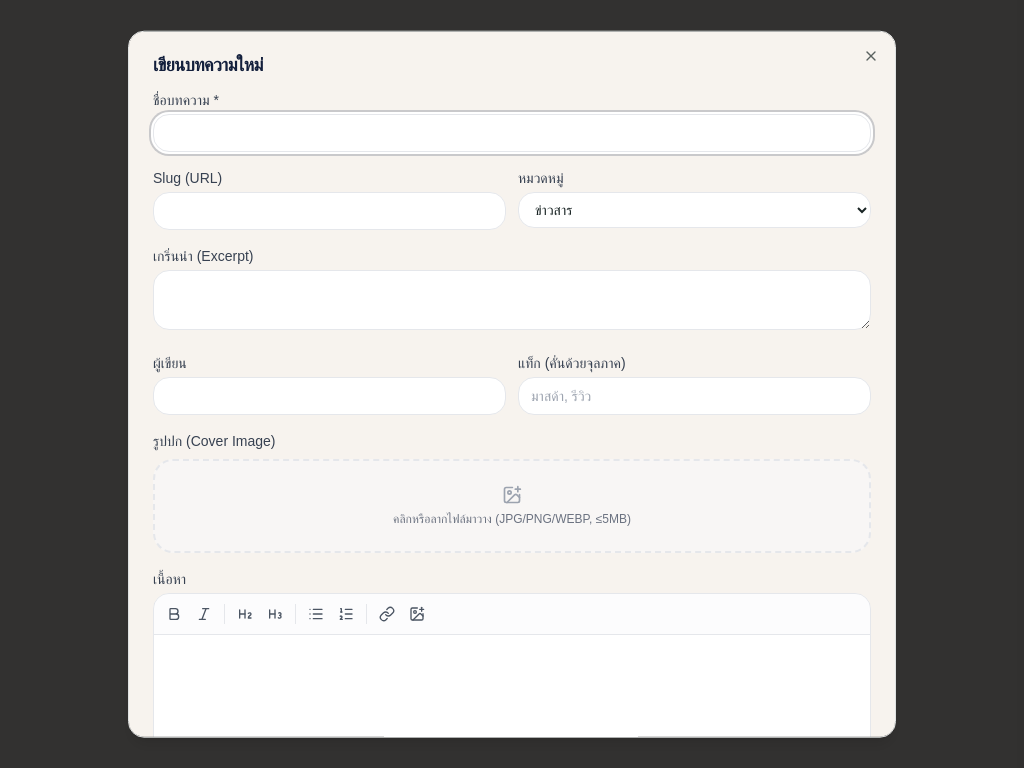
Test: BlogForm › auto-generates the slug from the title until the slug is manually edited
Type "Hello World" into the field below "ชื่อบทความ *" at (512, 133), box [153,114,871,152]
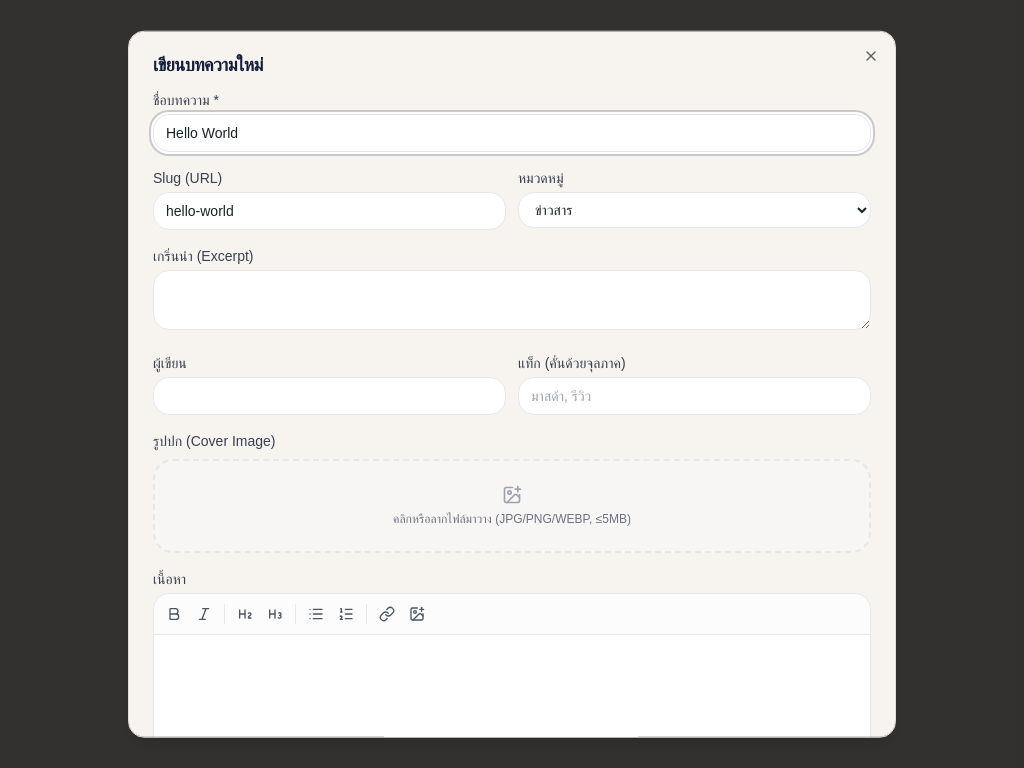
Result: the field below "Slug (URL)" holds "hello-world" at [153,192,506,230]
